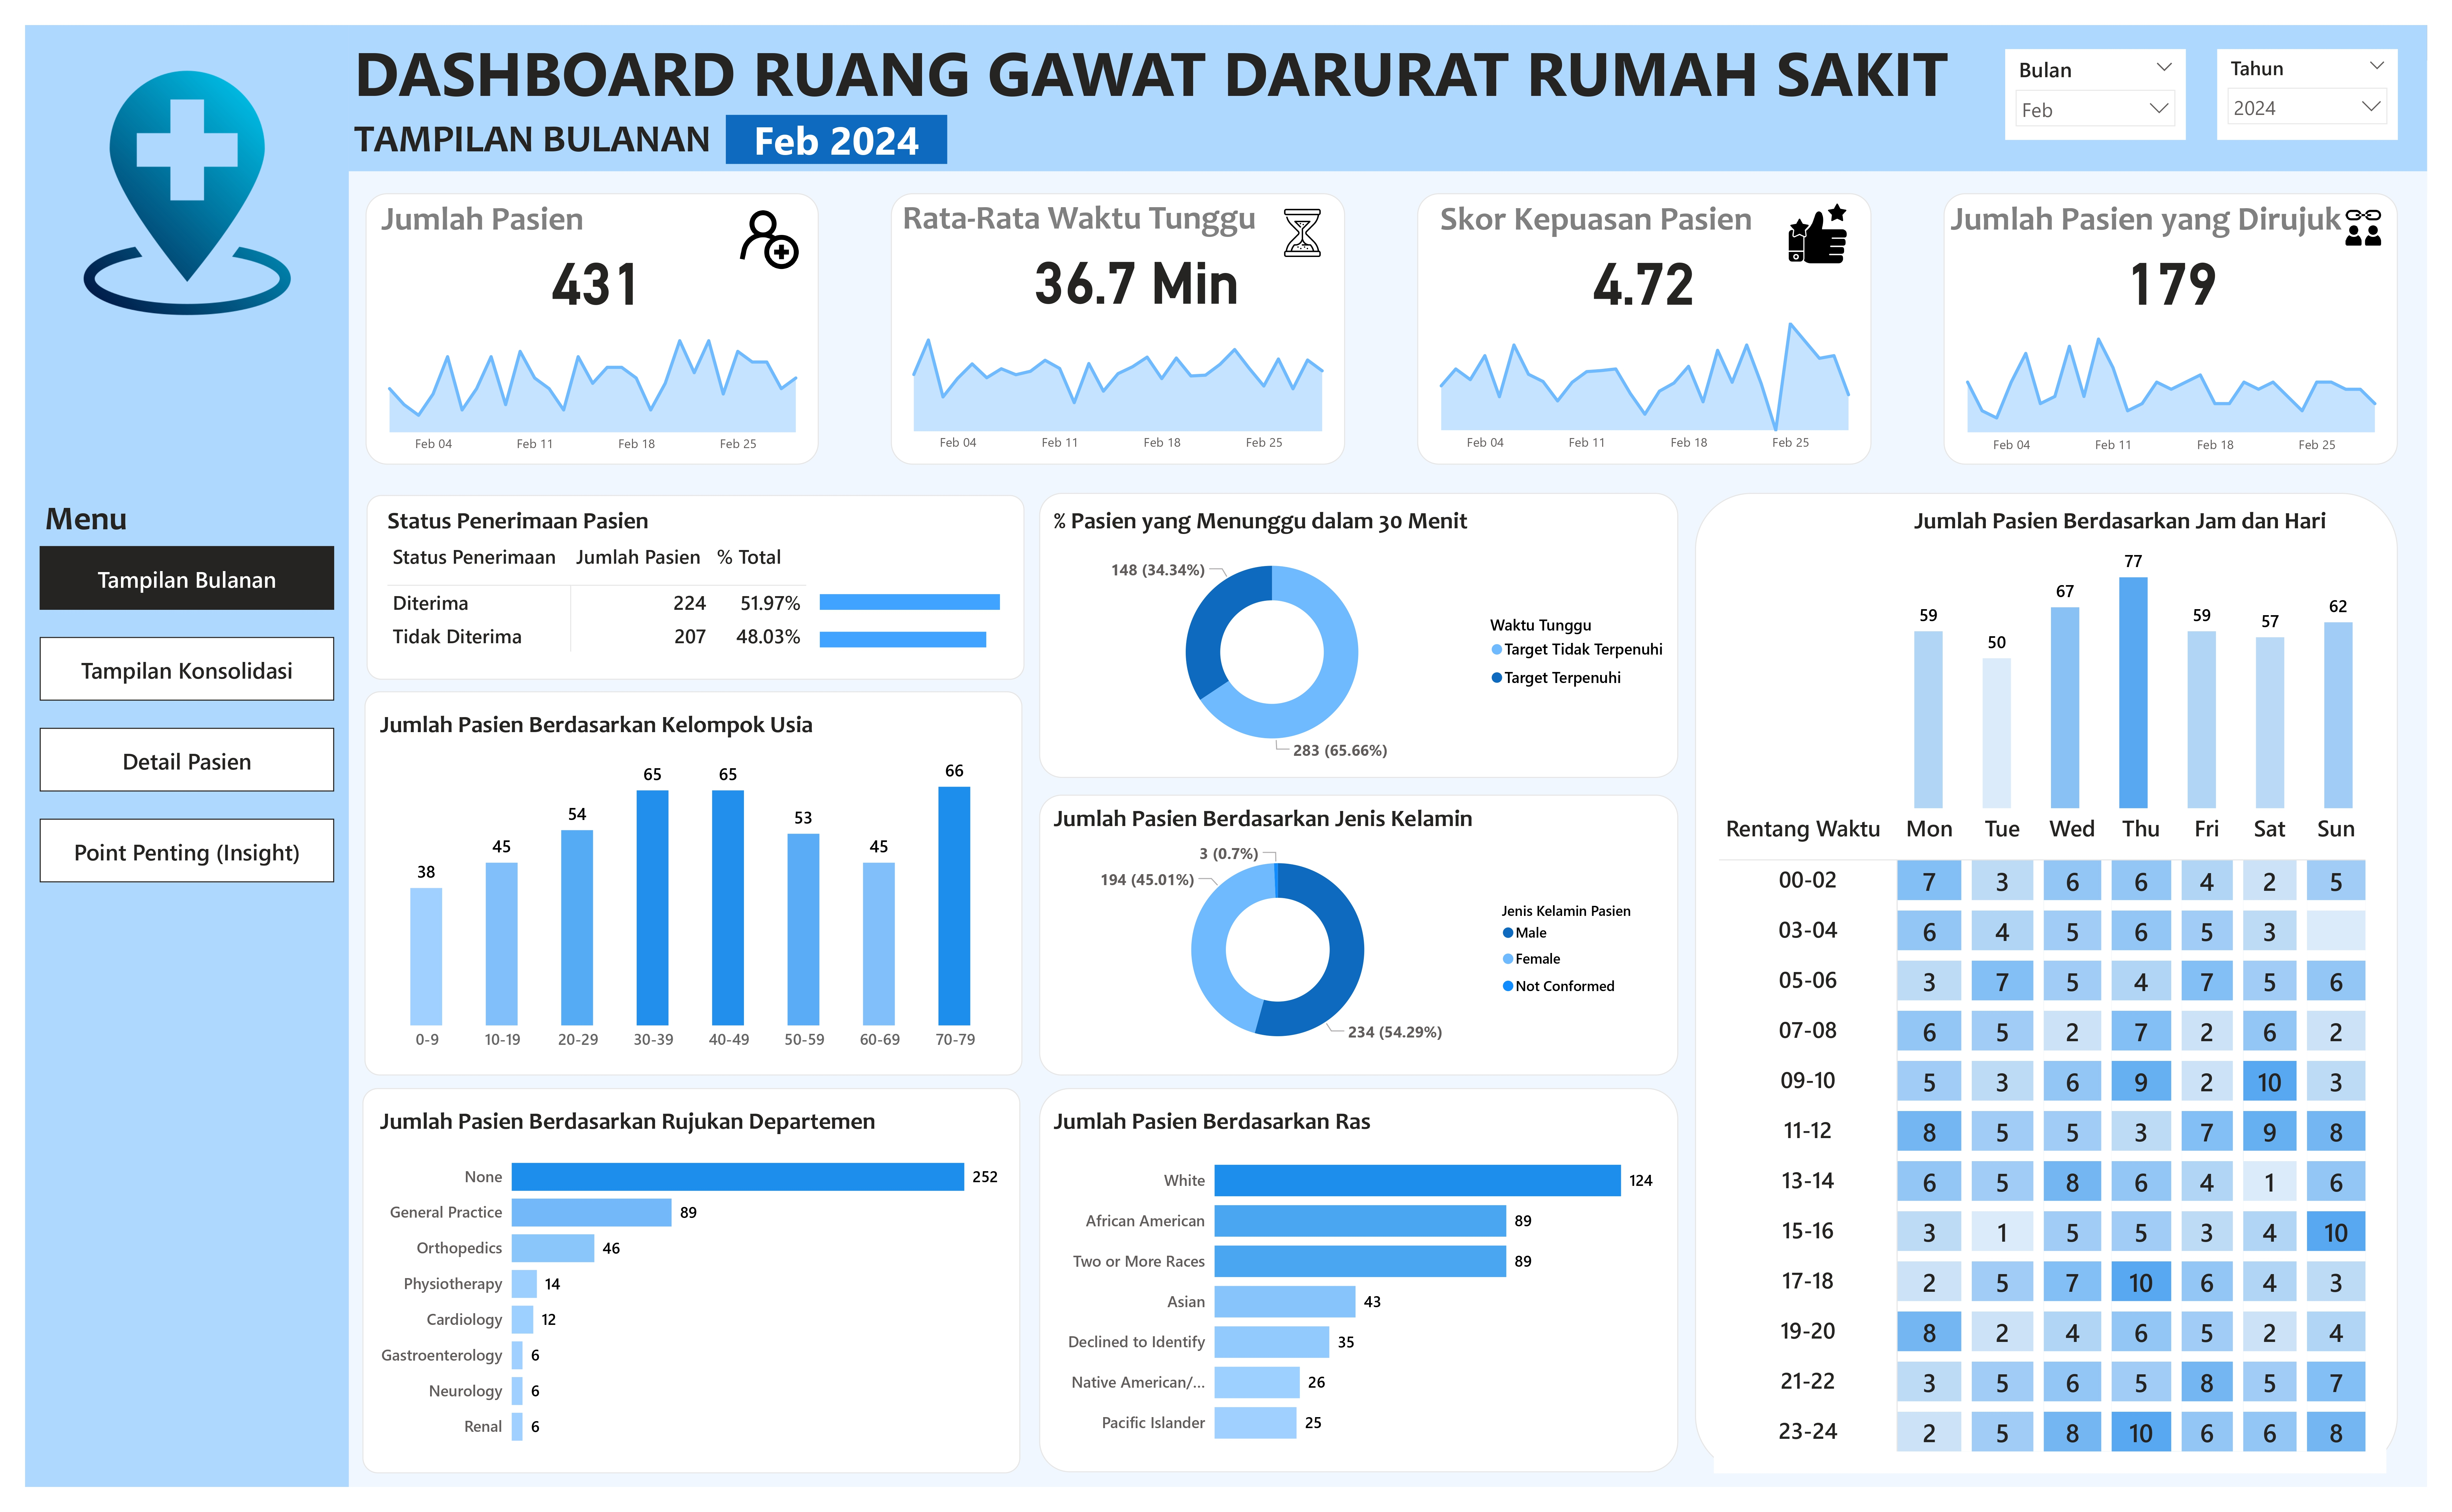

The page's visual inventory and layout, read from the dashboard file:
{"tool":"powerbi","page":{"name":"Tampilan Bulanan","canvas":[2300,1400],"ordinal":0},"visuals":[{"type":"shape","box":[325.6,161.1,434.4,260],"z":0},{"type":"shape","box":[0,0,310,1400],"z":1000},{"type":"shape","box":[310,0,1990,140],"z":2000},{"type":"textbox","box":[310,0,1625,92.5],"z":3000},{"type":"card","fields":{"Values":["Hospital ER_Data.Jumlah Pasien"]},"box":[464.4,208.9,166.7,64.4],"z":4000},{"type":"textbox","box":[310,80,467.5,60],"z":5000},{"type":"slicer","fields":{"Values":["Date Table.Month"]},"box":[1895.6,23.3,173.3,86.7],"z":6000},{"type":"slicer","fields":{"Values":["Date Table.Year"]},"box":[2098.9,23.3,173.3,86.7],"z":7000},{"type":"textbox","box":[335.6,161.1,226.7,57.8],"z":8000},{"type":"areaChart","fields":{"Category":["Date Table.Date.Variation.Date Hierarchy.Year","Date Table.Date.Variation.Date Hierarchy.Quarter","Date Table.Date.Variation.Date Hierarchy.Month","Date Table.Date.Variation.Date Hierarchy.Day"],"Y":["Hospital ER_Data.Jumlah Pasien"]},"box":[325.6,273.3,435.6,145.6],"z":9000},{"type":"shape","box":[829.1,161.1,434.4,260],"z":10000},{"type":"card","fields":{"Values":["Hospital ER_Data.Rata-Rata Waktu Tunggu"]},"box":[925.7,207.1,277.1,65.7],"z":11000},{"type":"textbox","box":[834.5,160,400,58.2],"z":12000},{"type":"areaChart","fields":{"Category":["Date Table.Date.Variation.Date Hierarchy.Year","Date Table.Date.Variation.Date Hierarchy.Quarter","Date Table.Date.Variation.Date Hierarchy.Month","Date Table.Date.Variation.Date Hierarchy.Day"],"Y":["Hospital ER_Data.Rata - Rata Waktu Tunggu"]},"box":[828.2,271.8,436.4,146.4],"z":13000},{"type":"shape","box":[1836.7,161.1,435,260],"z":14000},{"type":"shape","box":[1332.6,161.1,435,260],"z":15000},{"type":"card","fields":{"Values":["Hospital ER_Data.Skor Kepuasan Pasien"]},"box":[1466.4,209.1,167.3,63.6],"z":16000},{"type":"textbox","box":[1350,160.9,400,58.2],"z":17000},{"type":"areaChart","fields":{"Category":["Date Table.Date.Variation.Date Hierarchy.Year","Date Table.Date.Variation.Date Hierarchy.Quarter","Date Table.Date.Variation.Date Hierarchy.Month","Date Table.Date.Variation.Date Hierarchy.Day"],"Y":["Hospital ER_Data.Skor Kepuasan Pasien"]},"box":[1332.7,271.8,436.4,146.4],"z":18000},{"type":"textbox","box":[1838.6,161.4,400,57.1],"z":19000},{"type":"card","fields":{"Values":["Min(Date Table.Month Year)"]},"box":[671.4,85.7,211.4,47.1],"z":20000},{"type":"areaChart","fields":{"Category":["Date Table.Date.Variation.Date Hierarchy.Year","Date Table.Date.Variation.Date Hierarchy.Quarter","Date Table.Date.Variation.Date Hierarchy.Month","Date Table.Date.Variation.Date Hierarchy.Day"],"Y":["Hospital ER_Data.Jumlah Pasien yang Dirujuk"]},"box":[1837.1,272.9,435.7,147.1],"z":21000},{"type":"card","fields":{"Values":["Hospital ER_Data.Jumlah Pasien yang Dirujuk"]},"box":[1971.4,208.6,168.6,64.3],"z":22000},{"type":"shape","box":[326.7,450,630,177],"z":23000},{"type":"pivotTable","title":"Status Penerimaan Pasien","fields":{"Rows":["Hospital ER_Data.Status Penerimaan"],"Values":["Hospital ER_Data.Jumlah Pasien","Divide(Hospital ER_Data.Jumlah Pasien, ScopedEval(Hospital ER_Data.Jumlah Pasien, []))"]},"box":[342.2,460,598.9,153.3],"z":24000},{"type":"barChart","fields":{"Category":["Hospital ER_Data.Status Penerimaan"],"Y":["Hospital ER_Data.Jumlah Pasien"]},"box":[756.4,513.6,240.9,108.2],"z":25000},{"type":"shape","box":[325.5,638.2,630,368],"z":26000},{"type":"clusteredColumnChart","title":"Jumlah Pasien Berdasarkan Kelompok Usia","fields":{"Category":["Hospital ER_Data.Kelompok Umur"],"Y":["Hospital ER_Data.Jumlah Pasien"]},"box":[335.5,654.5,605.5,337.3],"z":27000},{"type":"shape","box":[323.3,1018.3,630,368.3],"z":28000},{"type":"barChart","title":"Jumlah Pasien Berdasarkan Rujukan Departemen","fields":{"Category":["Hospital ER_Data.Department Referral"],"Y":["Hospital ER_Data.Jumlah Pasien"]},"box":[335,1035,605,340],"z":29000},{"type":"shape","box":[971,448,612,273],"z":30000},{"type":"shape","box":[971,737,612,269],"z":31000},{"type":"donutChart","title":"% Pasien yang Menunggu dalam 30 Menit","fields":{"Category":["Hospital ER_Data.Waktu Tunggu"],"Y":["Hospital ER_Data.Jumlah Pasien"]},"box":[980,460,603,253],"z":32000},{"type":"donutChart","title":"Jumlah Pasien Berdasarkan Jenis Kelamin","fields":{"Y":["Hospital ER_Data.Jumlah Pasien"],"Category":["Hospital ER_Data.Patient Gender"]},"box":[980,745,585,253],"z":33000},{"type":"shape","box":[971,1018,612,368],"z":34000},{"type":"barChart","title":"Jumlah Pasien Berdasarkan Ras","fields":{"Y":["Hospital ER_Data.Jumlah Pasien"],"Category":["Hospital ER_Data.Patient Race"]},"box":[980,1035,585,340],"z":35000},{"type":"shape","box":[1599.1,448.2,672.7,938.2],"z":36000},{"type":"pivotTable","fields":{"Rows":["Hospital ER_Data.Rentang Waktu"],"Columns":["Date Table.Day"],"Values":["Hospital ER_Data.Jumlah Pasien"]},"box":[1617.1,745.7,644.3,641.4],"z":37000},{"type":"columnChart","title":"Jumlah Pasien Berdasarkan Jam dan Hari","fields":{"Category":["Date Table.Day"],"Y":["Hospital ER_Data.Jumlah Pasien"]},"box":[1804.3,460,431.4,295.7],"z":38000},{"type":"image","box":[32.5,37.5,245,245],"z":39000},{"type":"image","box":[670,171.4,84.3,68.6],"z":40000},{"type":"image","box":[1190,171.4,65.7,55.7],"z":41000},{"type":"image","box":[1682.9,157.1,67.1,84.3],"z":42000},{"type":"image","box":[2217.1,168.6,44.3,50],"z":43000},{"type":"pageNavigator","box":[13.8,498.8,282.5,323.8],"z":43001},{"type":"textbox","box":[14,448,142,60],"z":43002}]}

Visuals, with their boxes on the page's 2300x1400 design canvas (x1, y1, x2, y2). These are canvas units, not pixel positions in the 2452x1512 screenshot, which may show the page scaled, cropped or inside an application window:
shape: <bbox>326, 161, 760, 421</bbox>
shape: <bbox>0, 0, 310, 1400</bbox>
shape: <bbox>310, 0, 2300, 140</bbox>
textbox: <bbox>310, 0, 1935, 92</bbox>
card - Hospital ER_Data.Jumlah Pasien: <bbox>464, 209, 631, 273</bbox>
textbox: <bbox>310, 80, 778, 140</bbox>
slicer - Date Table.Month: <bbox>1896, 23, 2069, 110</bbox>
slicer - Date Table.Year: <bbox>2099, 23, 2272, 110</bbox>
textbox: <bbox>336, 161, 562, 219</bbox>
areaChart - Date Table.Date.Variation.Date Hierarchy.Year x Date Table.Date.Variation.Date Hierarchy.Quarter: <bbox>326, 273, 761, 419</bbox>
shape: <bbox>829, 161, 1264, 421</bbox>
card - Hospital ER_Data.Rata-Rata Waktu Tunggu: <bbox>926, 207, 1203, 273</bbox>
textbox: <bbox>834, 160, 1234, 218</bbox>
areaChart - Date Table.Date.Variation.Date Hierarchy.Year x Date Table.Date.Variation.Date Hierarchy.Quarter: <bbox>828, 272, 1265, 418</bbox>
shape: <bbox>1837, 161, 2272, 421</bbox>
shape: <bbox>1333, 161, 1768, 421</bbox>
card - Hospital ER_Data.Skor Kepuasan Pasien: <bbox>1466, 209, 1634, 273</bbox>
textbox: <bbox>1350, 161, 1750, 219</bbox>
areaChart - Date Table.Date.Variation.Date Hierarchy.Year x Date Table.Date.Variation.Date Hierarchy.Quarter: <bbox>1333, 272, 1769, 418</bbox>
textbox: <bbox>1839, 161, 2239, 218</bbox>
card - Min(Date Table.Month Year): <bbox>671, 86, 883, 133</bbox>
areaChart - Date Table.Date.Variation.Date Hierarchy.Year x Date Table.Date.Variation.Date Hierarchy.Quarter: <bbox>1837, 273, 2273, 420</bbox>
card - Hospital ER_Data.Jumlah Pasien yang Dirujuk: <bbox>1971, 209, 2140, 273</bbox>
shape: <bbox>327, 450, 957, 627</bbox>
"Status Penerimaan Pasien" pivotTable: <bbox>342, 460, 941, 613</bbox>
barChart - Hospital ER_Data.Status Penerimaan x Hospital ER_Data.Jumlah Pasien: <bbox>756, 514, 997, 622</bbox>
shape: <bbox>326, 638, 956, 1006</bbox>
"Jumlah Pasien Berdasarkan Kelompok Usia" clusteredColumnChart: <bbox>336, 654, 941, 992</bbox>
shape: <bbox>323, 1018, 953, 1387</bbox>
"Jumlah Pasien Berdasarkan Rujukan Departemen" barChart: <bbox>335, 1035, 940, 1375</bbox>
shape: <bbox>971, 448, 1583, 721</bbox>
shape: <bbox>971, 737, 1583, 1006</bbox>
"% Pasien yang Menunggu dalam 30 Menit" donutChart: <bbox>980, 460, 1583, 713</bbox>
"Jumlah Pasien Berdasarkan Jenis Kelamin" donutChart: <bbox>980, 745, 1565, 998</bbox>
shape: <bbox>971, 1018, 1583, 1386</bbox>
"Jumlah Pasien Berdasarkan Ras" barChart: <bbox>980, 1035, 1565, 1375</bbox>
shape: <bbox>1599, 448, 2272, 1386</bbox>
pivotTable - Hospital ER_Data.Rentang Waktu x Date Table.Day: <bbox>1617, 746, 2261, 1387</bbox>
"Jumlah Pasien Berdasarkan Jam dan Hari" columnChart: <bbox>1804, 460, 2236, 756</bbox>
image: <bbox>32, 38, 278, 282</bbox>
image: <bbox>670, 171, 754, 240</bbox>
image: <bbox>1190, 171, 1256, 227</bbox>
image: <bbox>1683, 157, 1750, 241</bbox>
image: <bbox>2217, 169, 2261, 219</bbox>
pageNavigator: <bbox>14, 499, 296, 823</bbox>
textbox: <bbox>14, 448, 156, 508</bbox>
